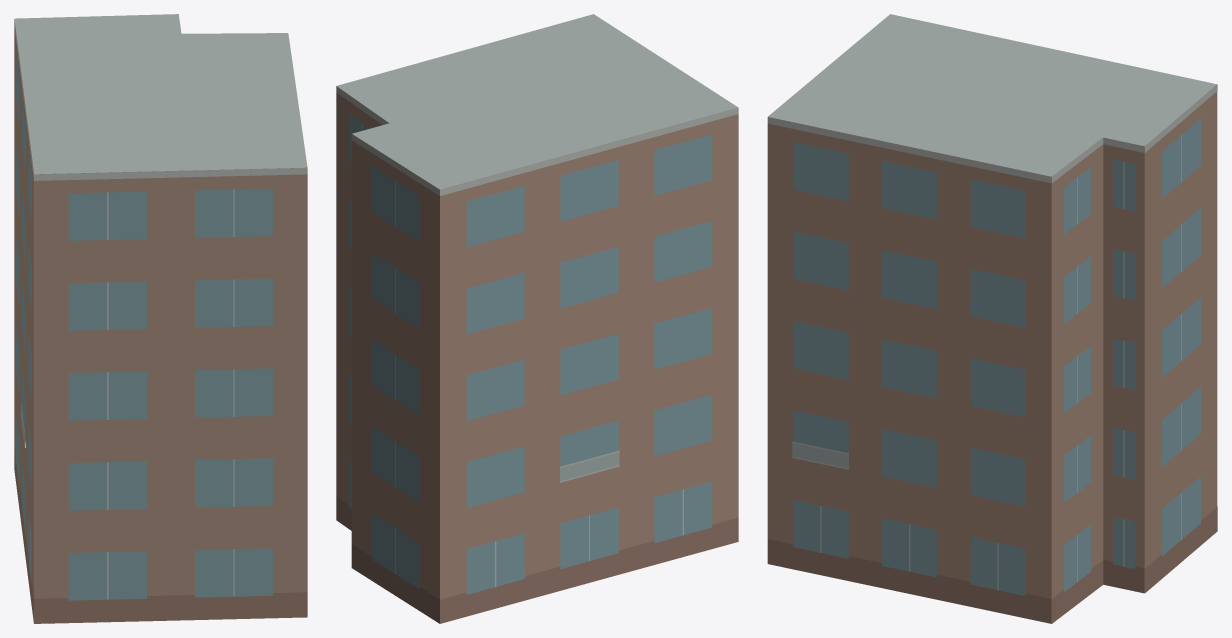
Rendered from survey-upis-32884395.glb.
3 renders of one model, left to right at view 1: azimuth 30°, elevation 25°; view 2: azimuth 150°, elevation 25°; view 3: azimuth 270°, elevation 25°, orthographic. The views are drawn at different scales.
Visible parts, largest first — view 1: survey-upis-32884395.tmp; view 2: survey-upis-32884395.tmp; view 3: survey-upis-32884395.tmp.
Boxes of the visible parts, x1,y1,x2,y2 form: survey-upis-32884395.tmp: (14, 14, 307, 623); survey-upis-32884395.tmp: (336, 14, 738, 623); survey-upis-32884395.tmp: (767, 14, 1217, 623).
Bounding box in the file's own units: 12.82 × 16.4 × 14.97.
